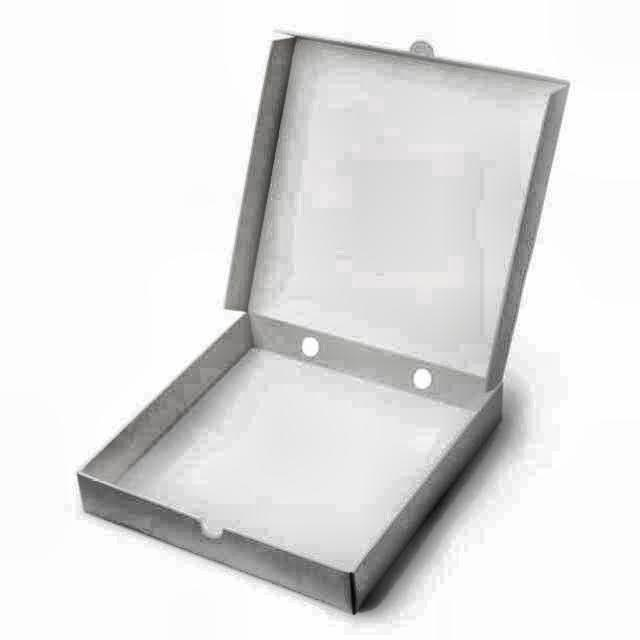cardboard: (75, 35, 572, 615)
